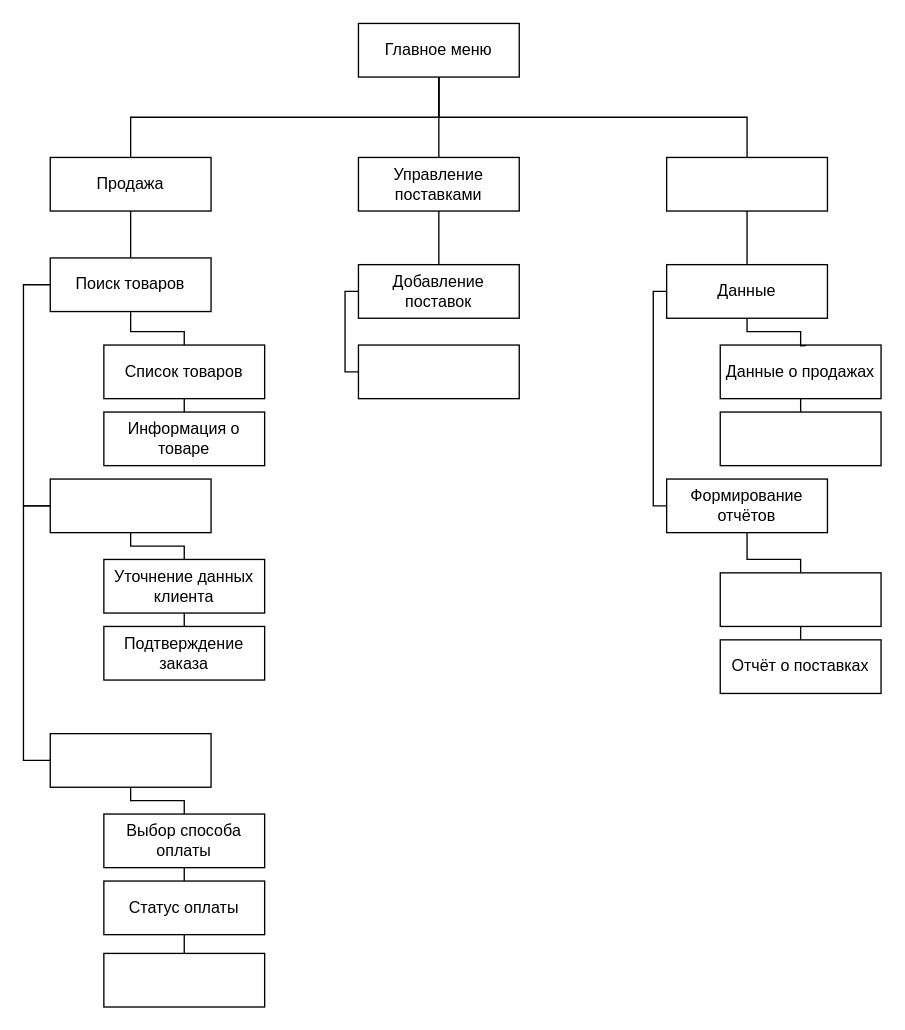
Some shapes in this 905 by 1030 pixel diagram are drawn without their labels. The box of each missing label's shape, as (x1, y1, x2, y2) in pixels:
Данные о заказе: (103, 952, 265, 1007)
Данные о поставках: (719, 411, 881, 466)
Оплата: (49, 732, 211, 787)
Отчёт о продажах: (719, 572, 881, 626)
Отчётность: (665, 156, 827, 211)
Оформление заказа: (49, 478, 211, 533)
Редактирование поставок: (357, 344, 519, 399)
